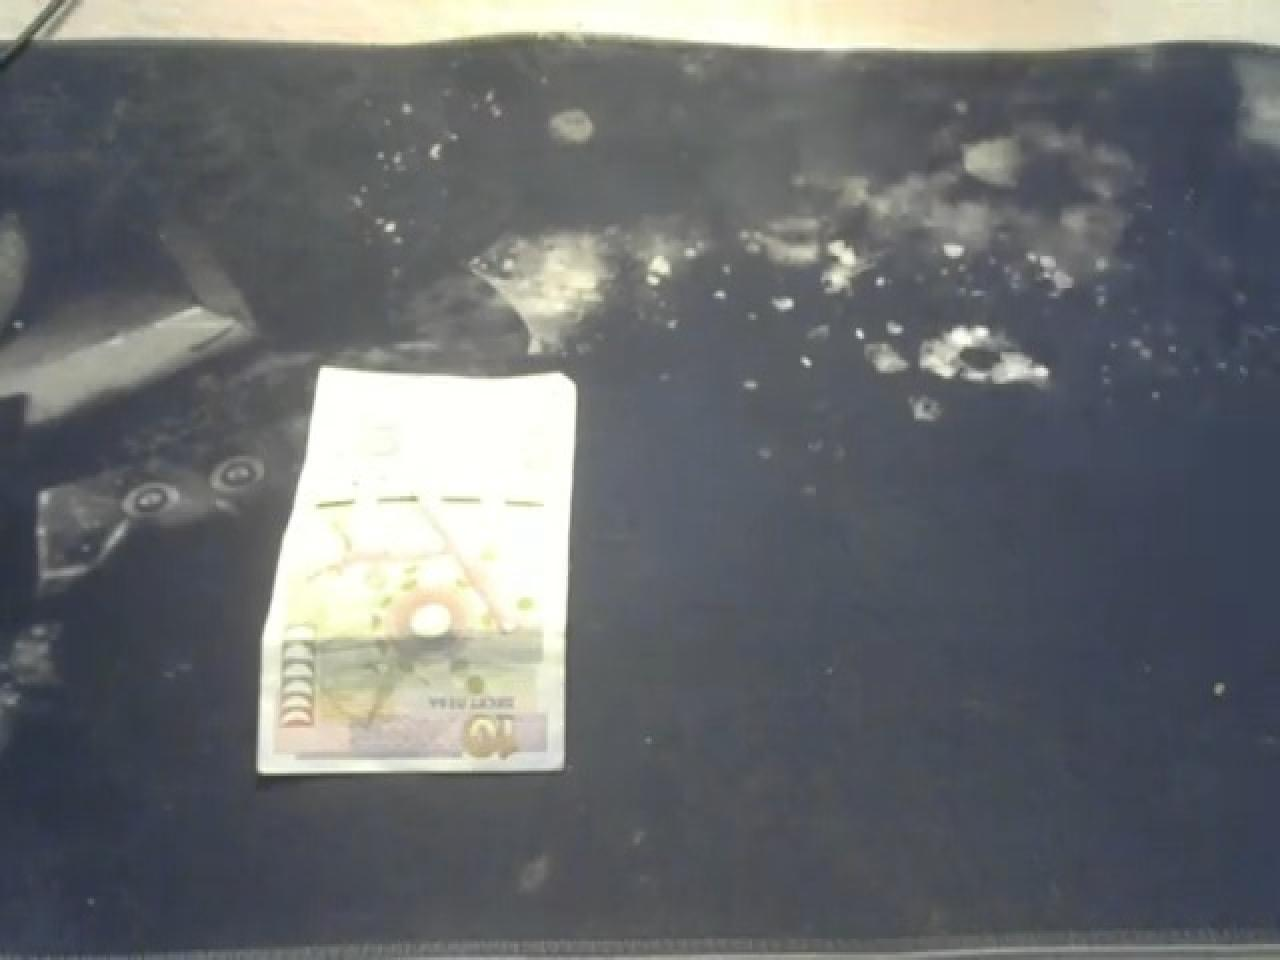10leva: (254, 363, 578, 776)
